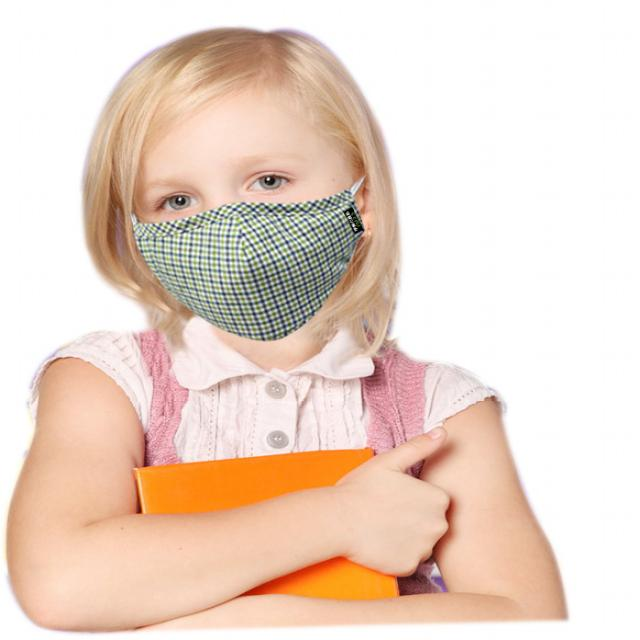mask: (130, 133, 362, 341)
